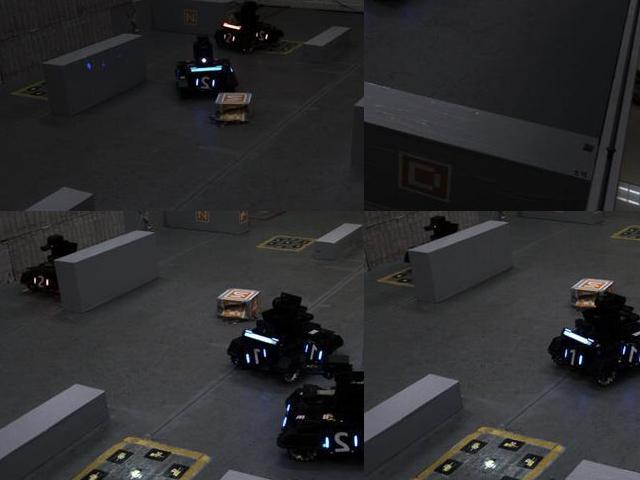armor: (320, 430, 363, 459), (300, 336, 329, 364), (243, 344, 271, 372), (560, 342, 585, 369), (191, 76, 223, 92), (619, 343, 639, 367), (30, 273, 52, 292), (252, 28, 274, 45), (220, 30, 238, 46)
